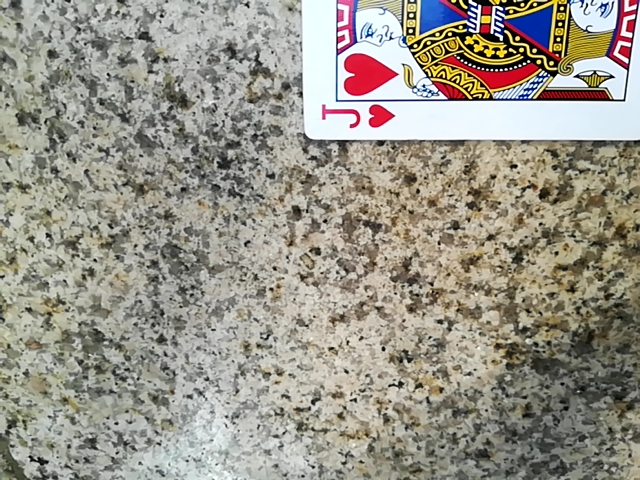hx j: (299, 1, 640, 148)
